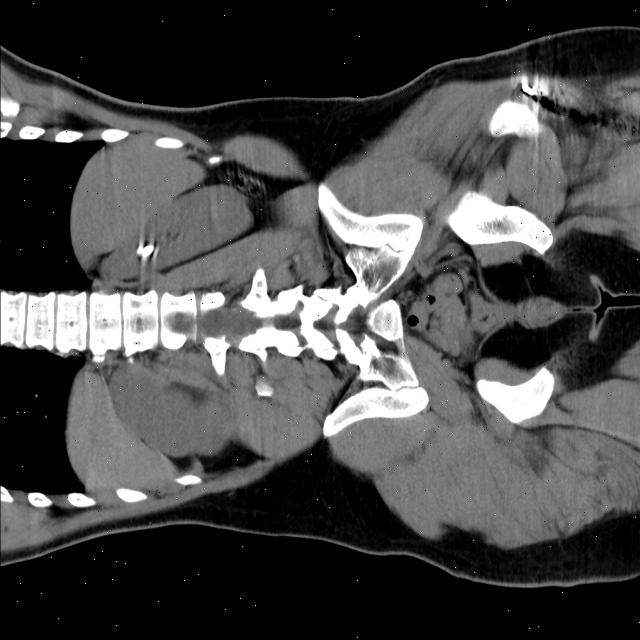kidneystone: (136, 243, 155, 259)
